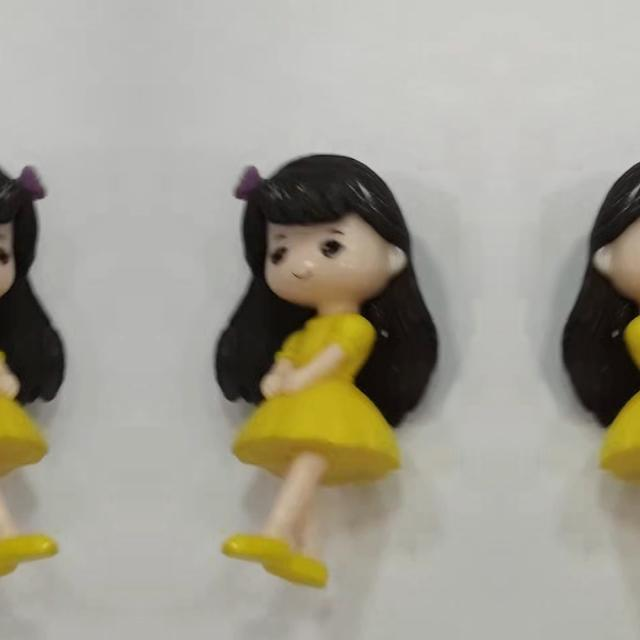woman dress: (240, 307, 402, 579), (598, 307, 640, 579), (0, 307, 40, 579)
woman head: (224, 142, 422, 316), (578, 141, 640, 316), (0, 141, 55, 316)
